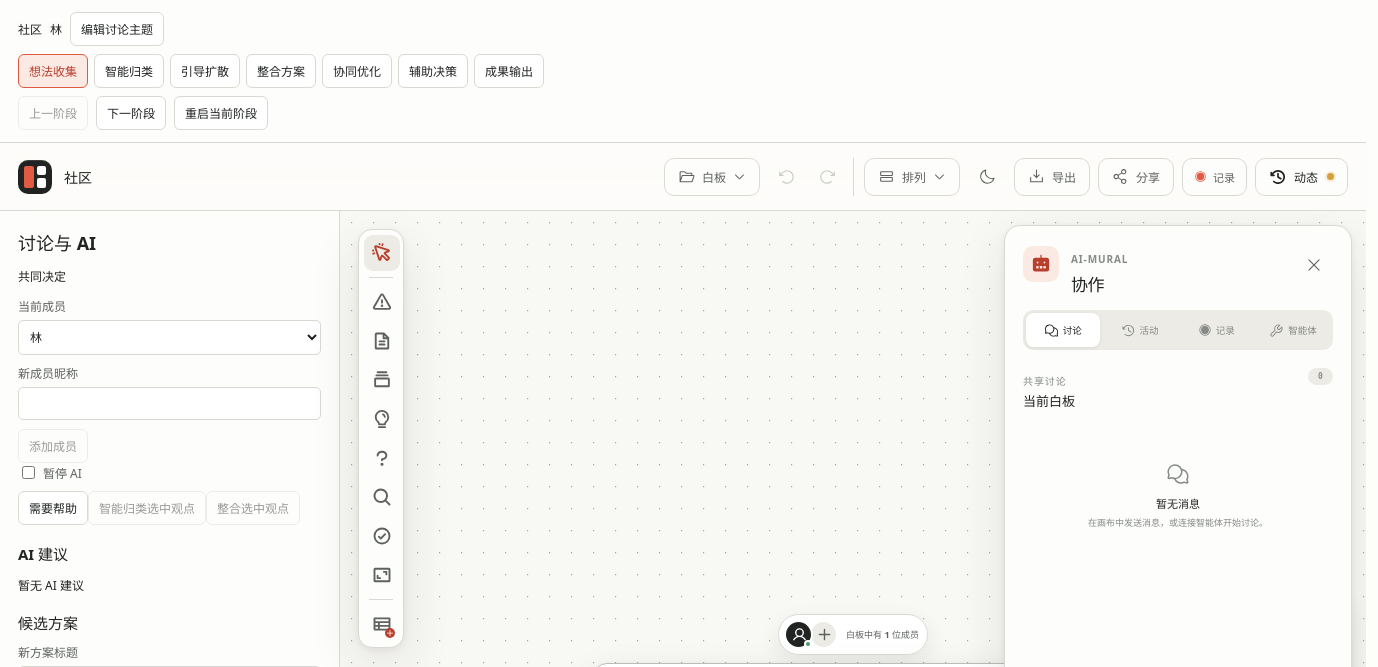
Test case: 本阶段暂停持久化，换阶段可求助，返回原阶段仍暂停
The width and height of the screenshot is (1378, 667).
Click the checkbox labelled "暂停 AI": (28, 472) [22,466,35,479]
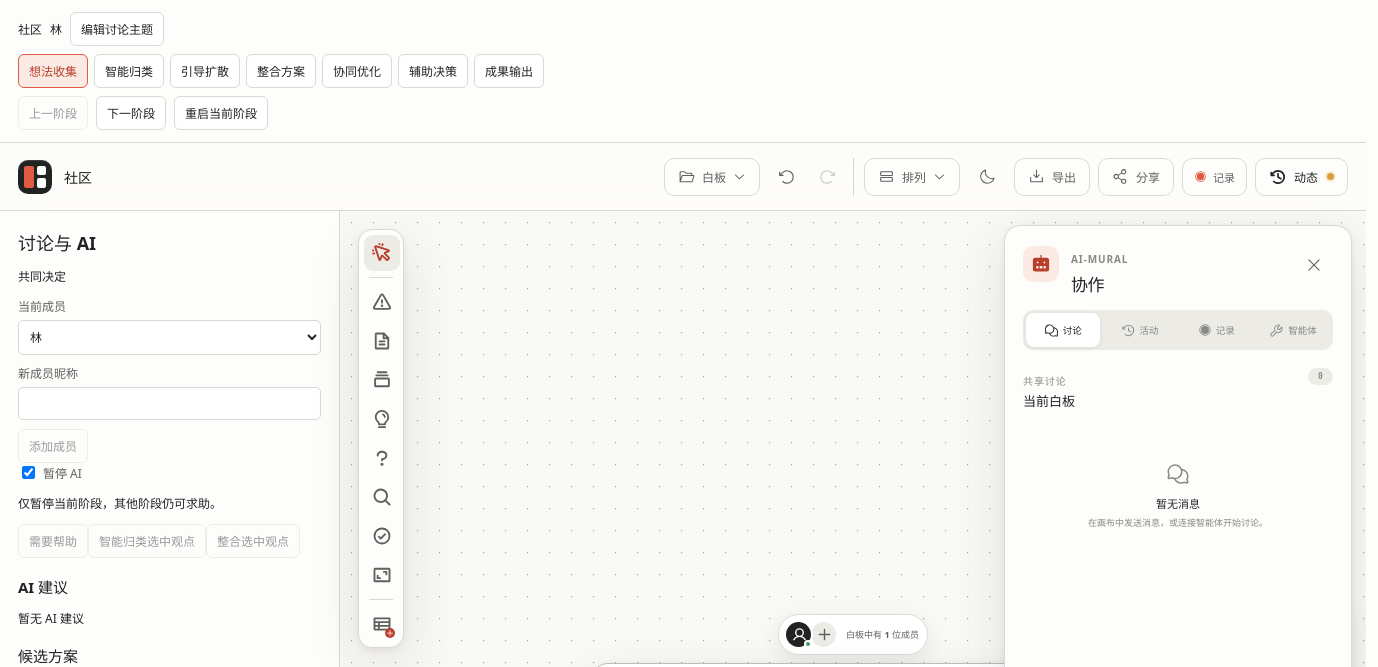
Click the button "智能归类": (129, 71) [94,54,164,88]
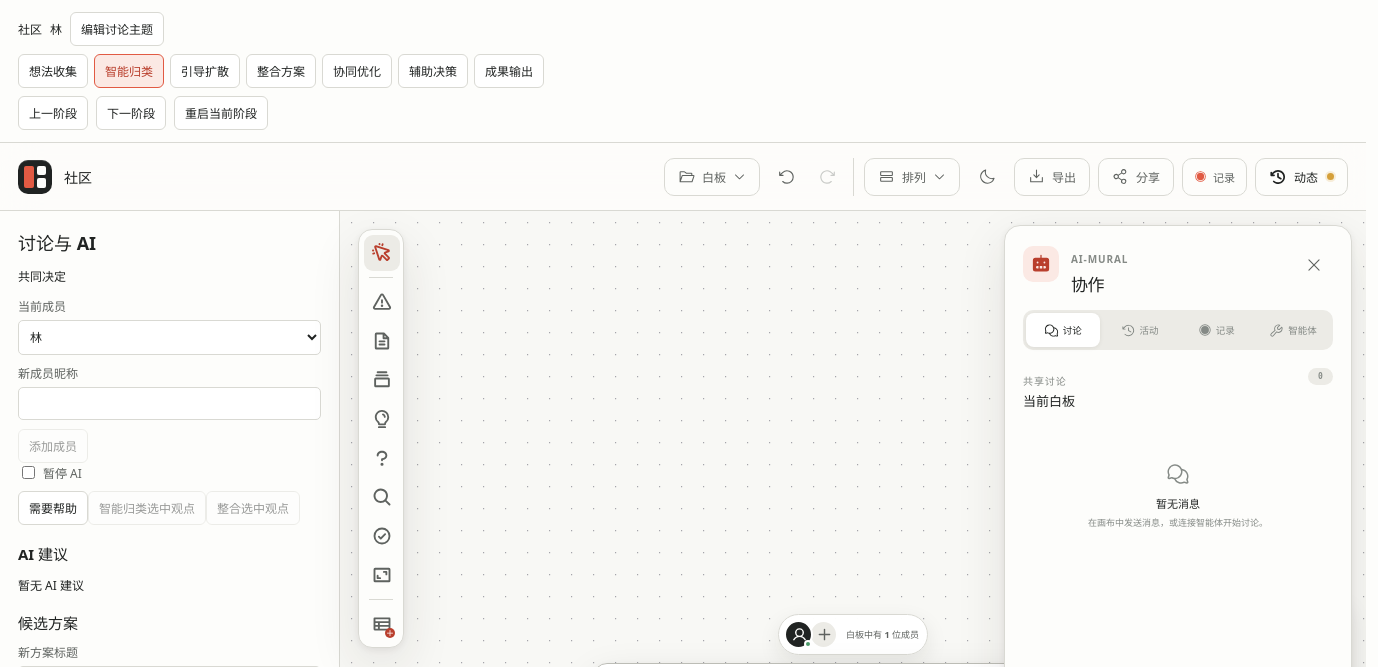
Result: the button "需要帮助" is enabled at [18,491,88,525]
Click the button "想法收集": (53, 71) [18,54,88,88]
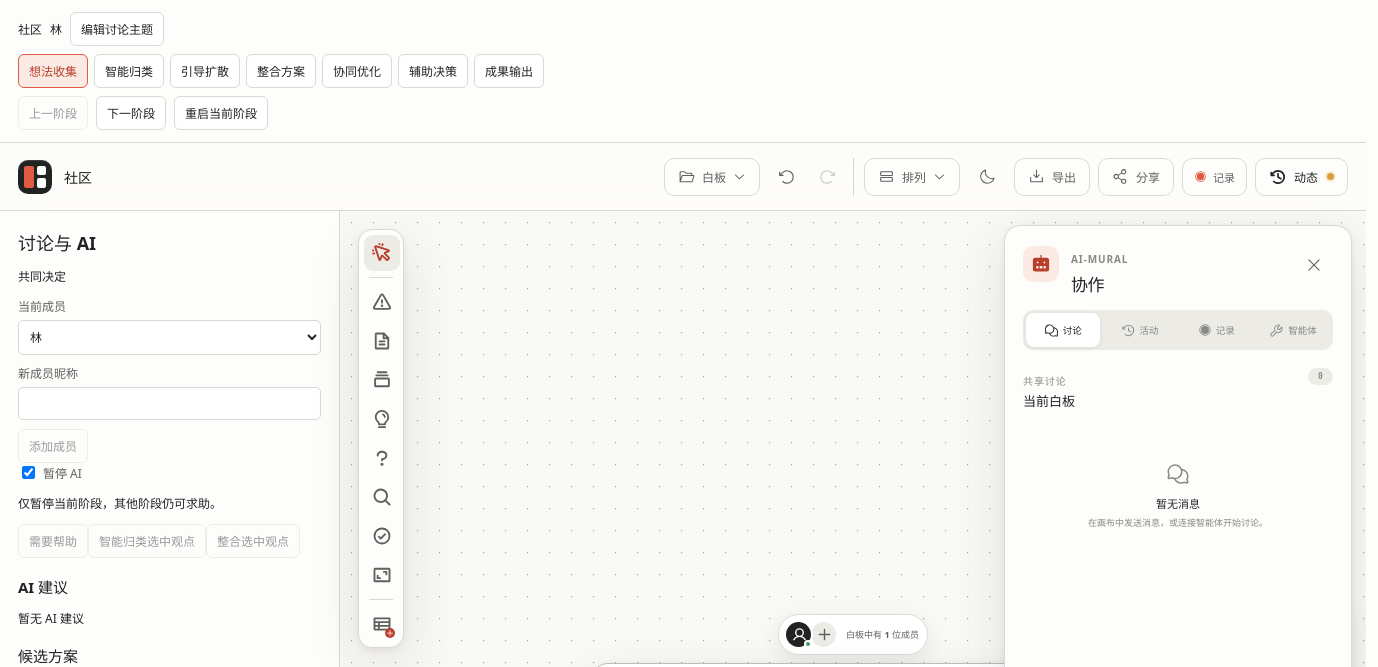
Result: the button "需要帮助" is disabled at [18,524,88,558]
